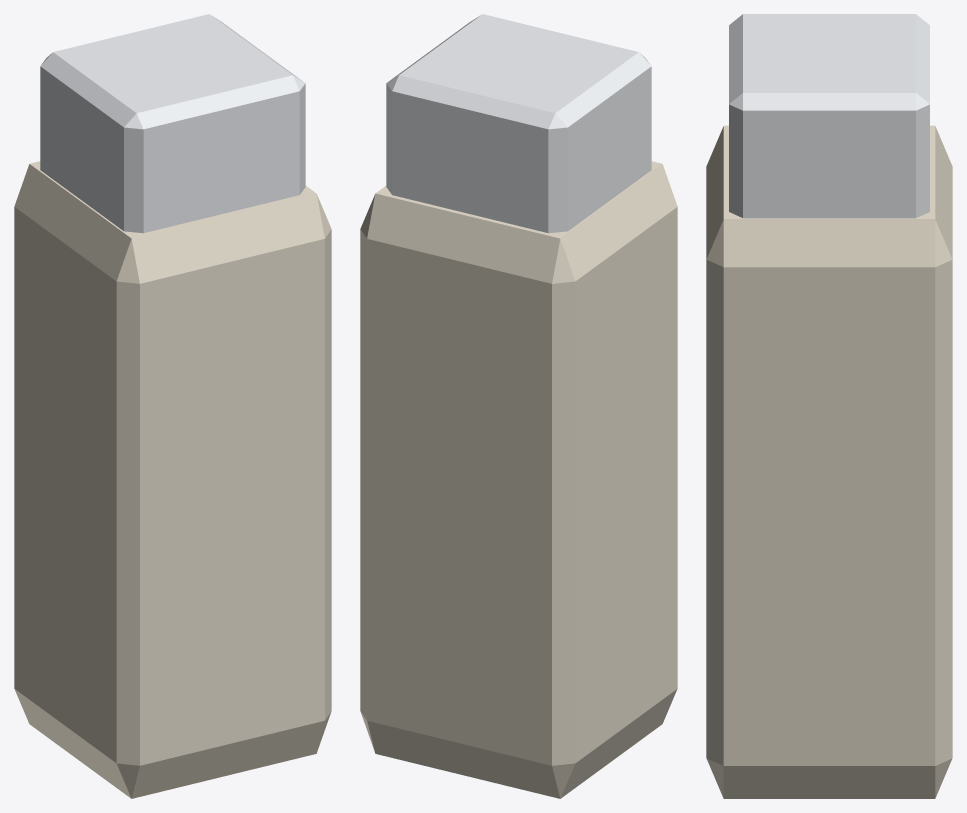
Rendered from b17_handheld_torch_flashlight.glb.
The picture shows the model from 3 angles, left to right: view 1: azimuth 30°, elevation 25°; view 2: azimuth 150°, elevation 25°; view 3: azimuth 270°, elevation 25°; orthographic projection. The views are drawn at different scales.
Parts seen in each view (by area): view 1: b17_handheld_torch_flashlight; view 2: b17_handheld_torch_flashlight; view 3: b17_handheld_torch_flashlight.
Part boxes in pixels (x1,y1,x2,y2): b17_handheld_torch_flashlight: (14, 14, 331, 798); b17_handheld_torch_flashlight: (360, 14, 677, 798); b17_handheld_torch_flashlight: (706, 14, 952, 798).
Bounding box in the file's own units: 0.07 × 0.21 × 0.067.
